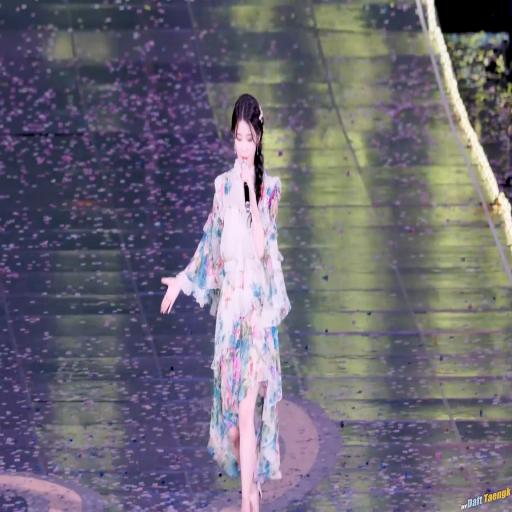IU: (231, 93, 264, 168)
